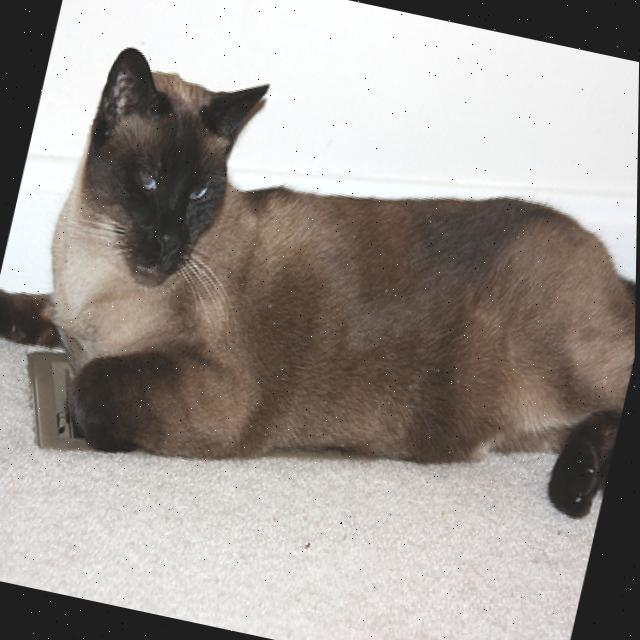Siamese: (0, 21, 640, 557)
